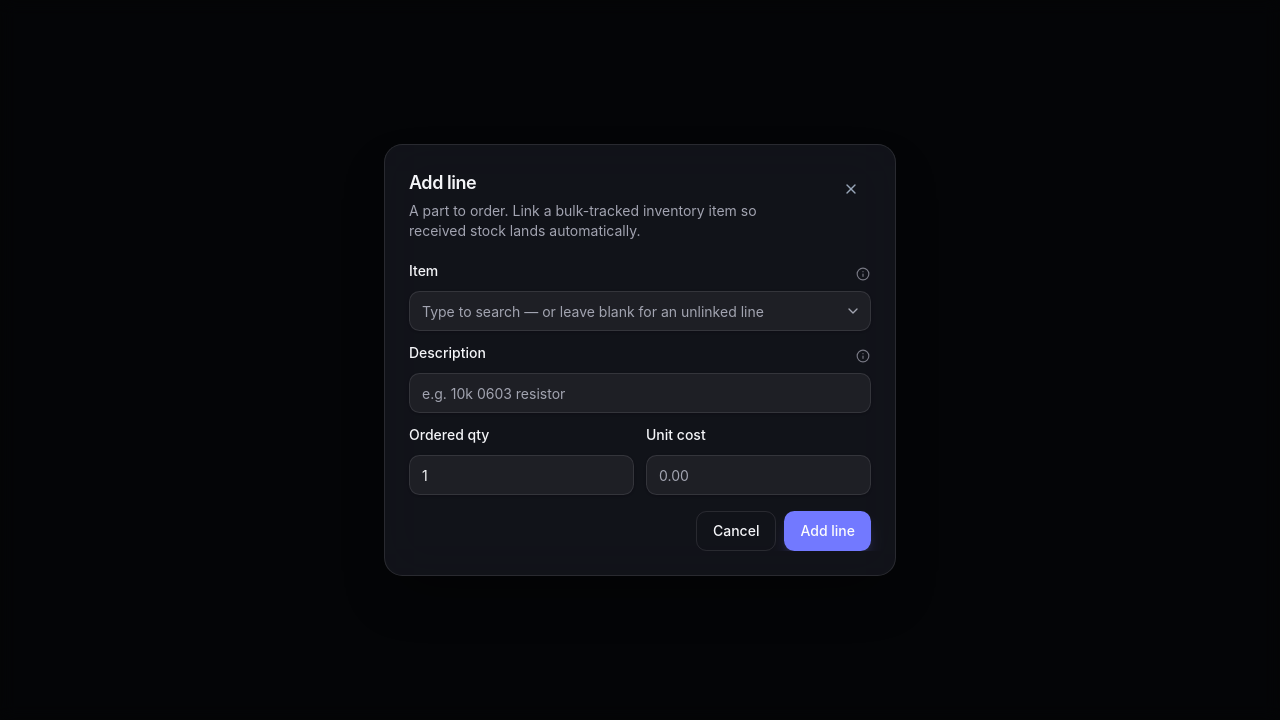
Test: PurchaseOrderLineDialog — quantity price breaks (issue #37) › lowers the unit cost as the quantity reaches a supplier price-break
Click the dropdown labelled "Item" at x=640, y=311, box 409,291 -> 871,331
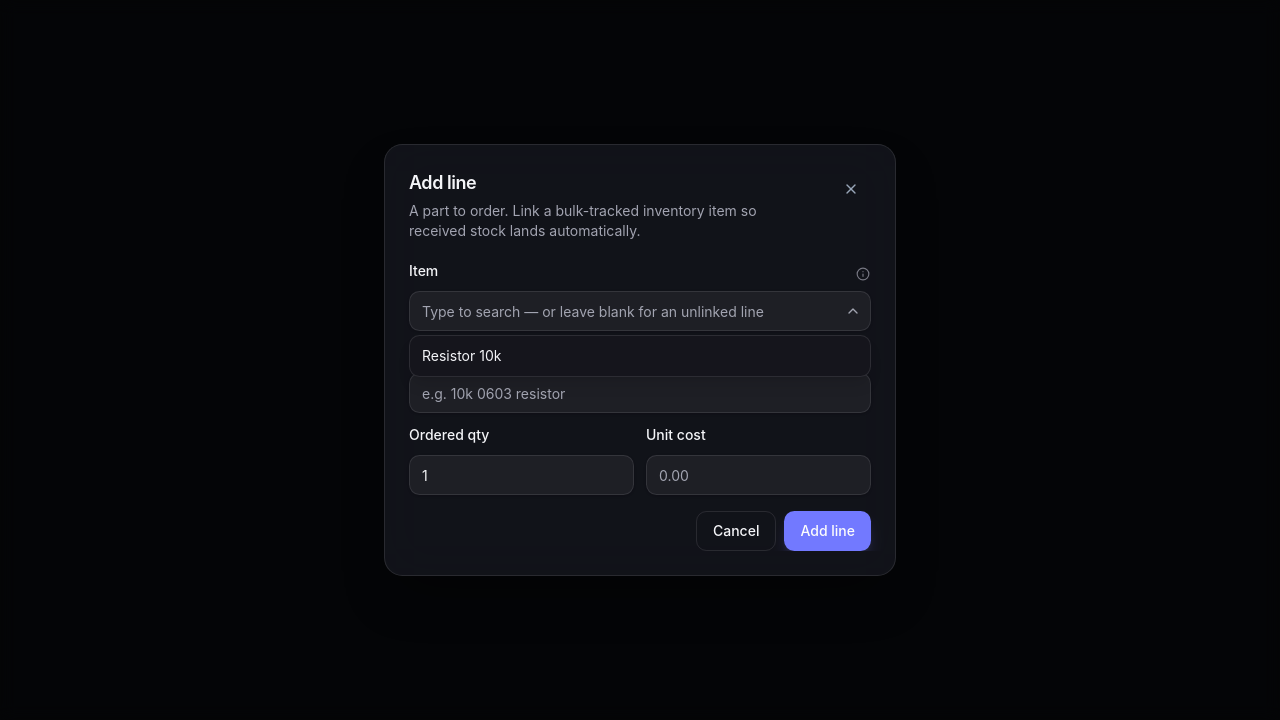
Press the mouse on the option "Resistor 10k" at x=462, y=356, box 422,347 -> 501,364
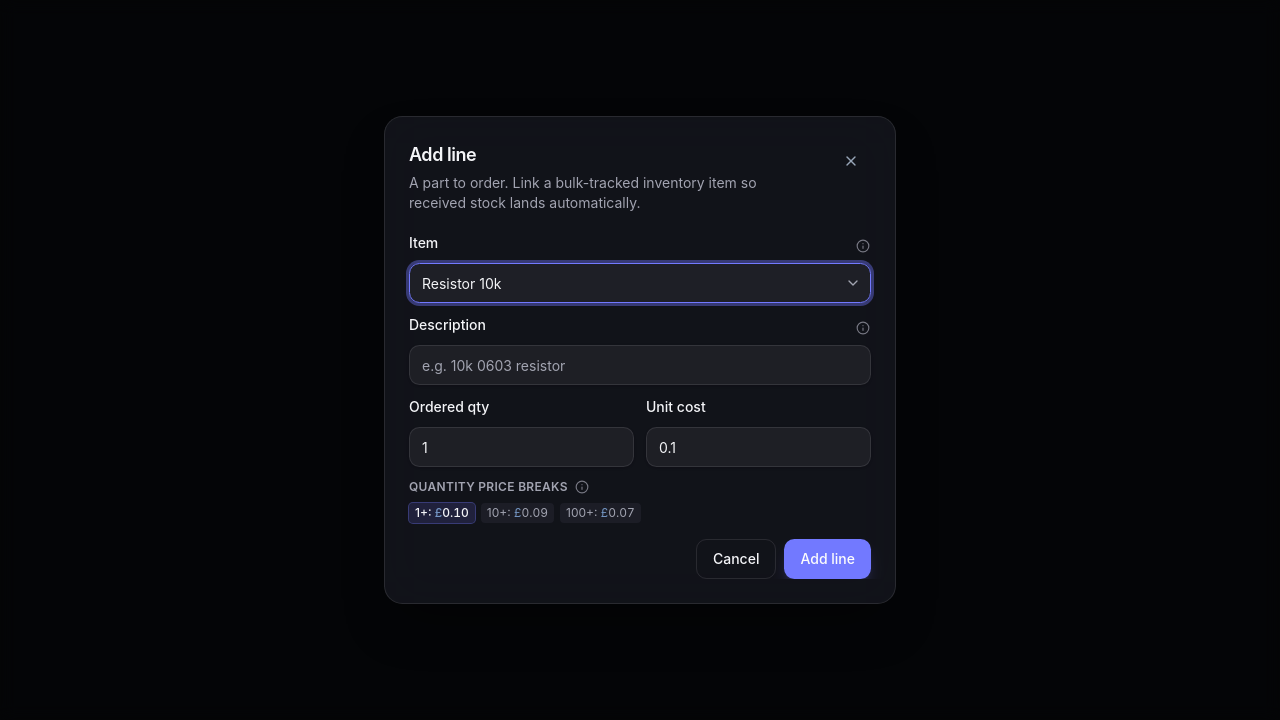
Type "10" into the field with test id "po-line-qty" at x=522, y=447, box 409,427 -> 634,467
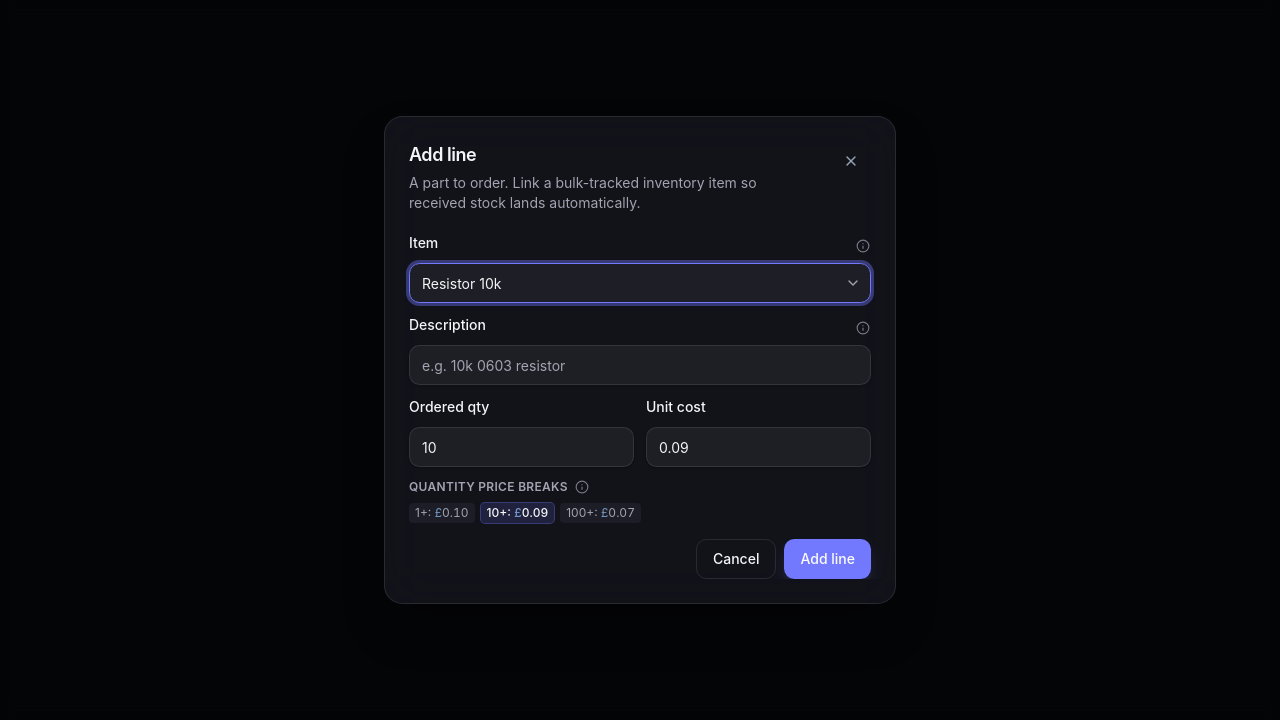
Expected: the field with test id "po-line-cost" holds "0.09", 646,427 -> 871,467
Replace the text in the field with test id "po-line-qty" with "250" at x=522, y=447, box 409,427 -> 634,467
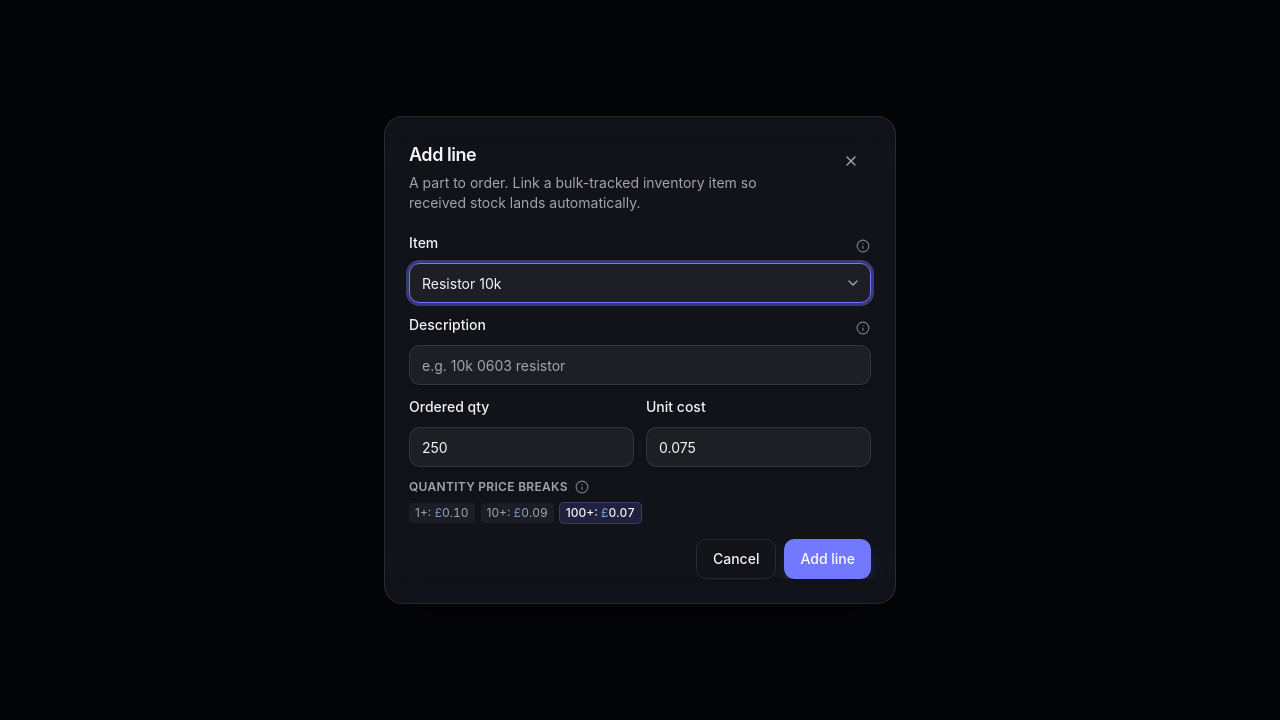
Expected: the field with test id "po-line-cost" holds "0.075", 646,427 -> 871,467
